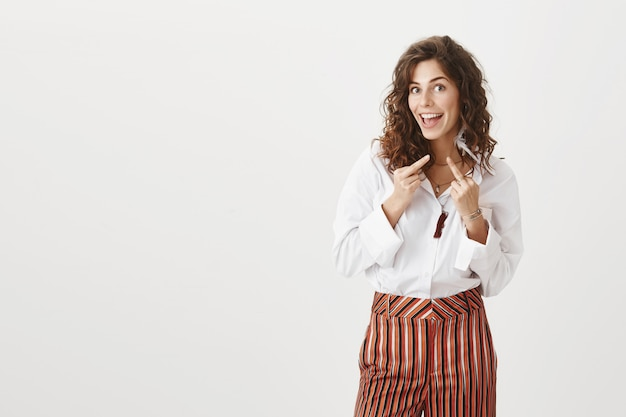insulting_gesture: (443, 156, 482, 217), (390, 152, 431, 209)
